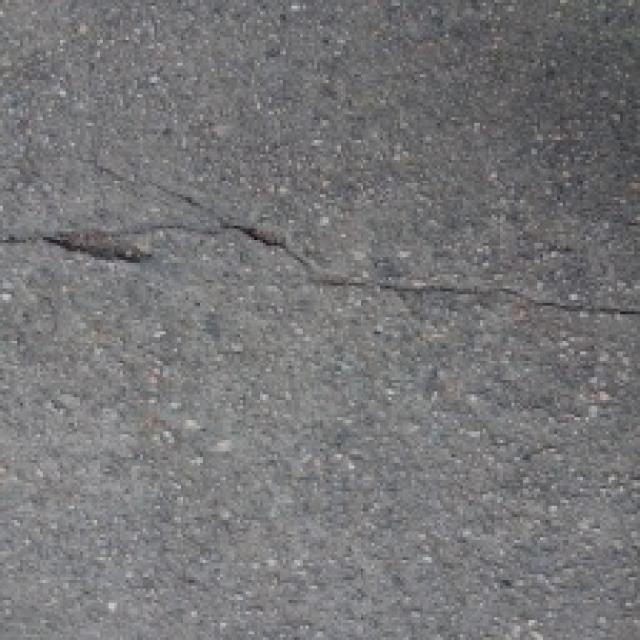crack: (0, 180, 640, 344)
